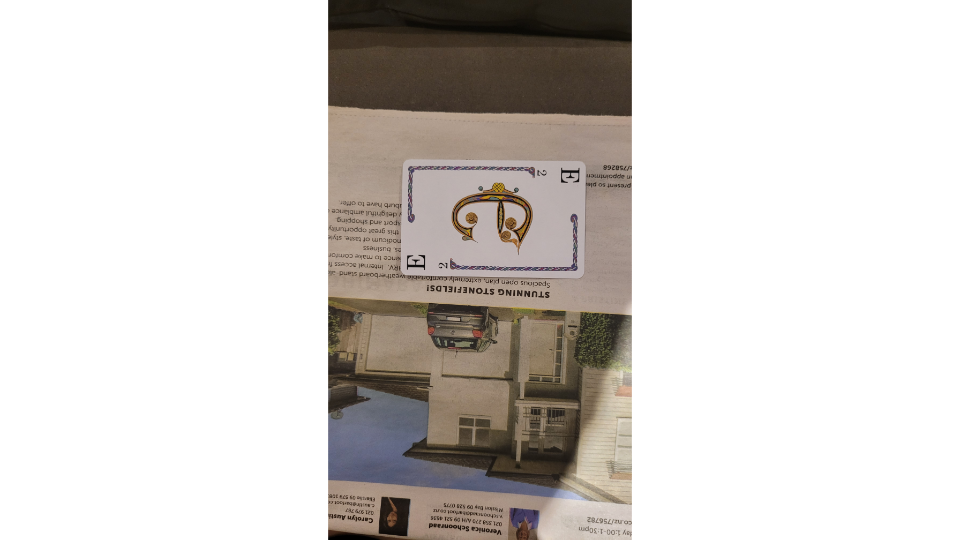E: (397, 155, 588, 282)
